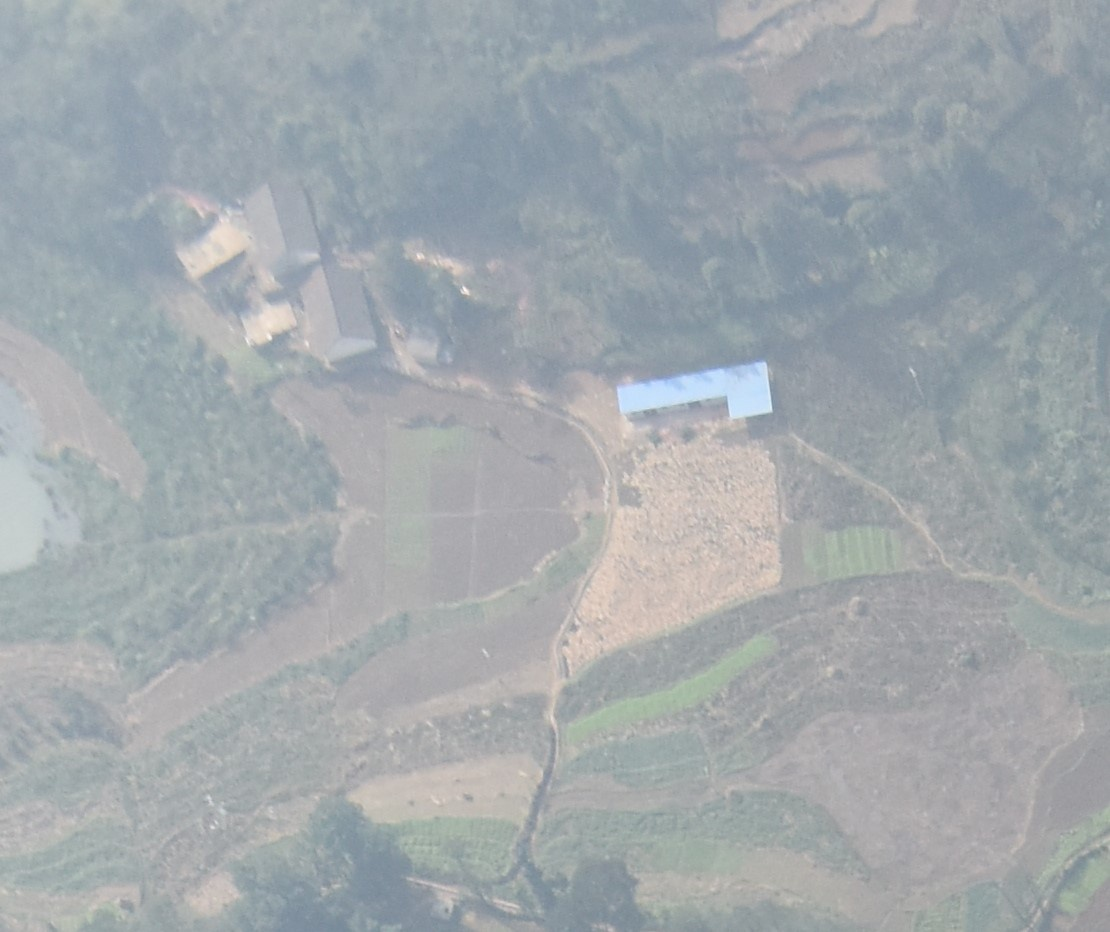building: (244, 179, 319, 269), (301, 268, 376, 357), (164, 219, 257, 285), (231, 301, 304, 349)
cable-tower: (907, 365, 928, 405)
prefabricated-house: (616, 361, 772, 419)
